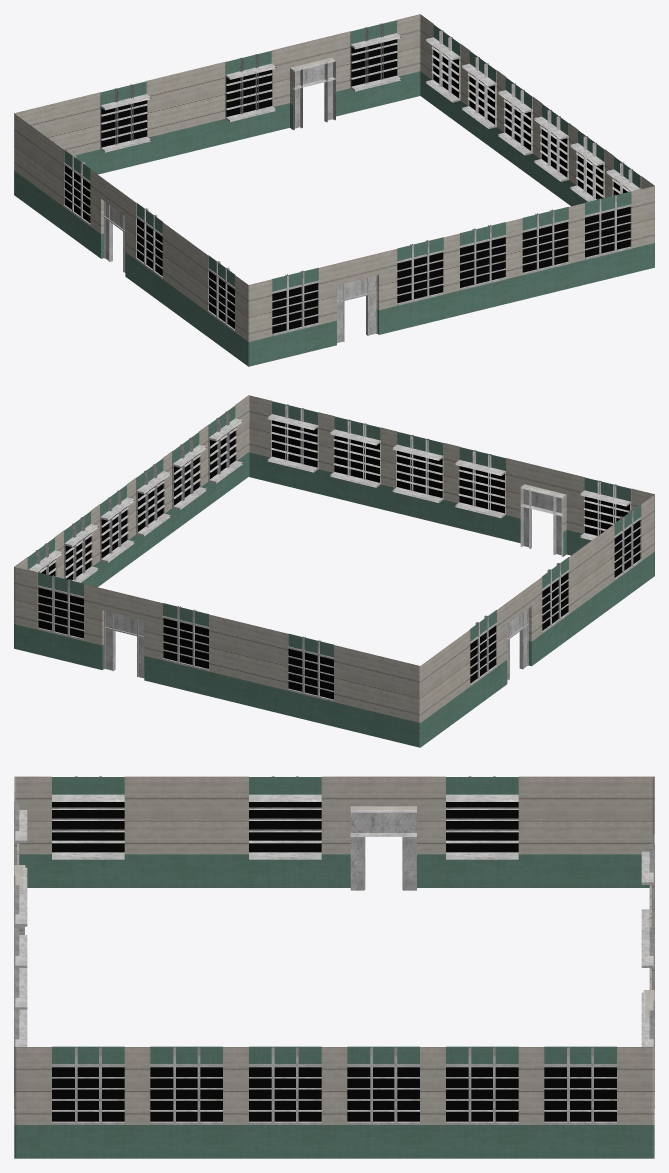
Rendered from BuildingD_Bottom_Shell_VarA.fbx.
3 views of the same model, one above another, from view 1: azimuth 30°, elevation 25°; view 2: azimuth 150°, elevation 25°; view 3: azimuth 270°, elevation 25° (orthographic). The views are drawn at different scales.
Visible parts, largest first — view 1: BuildingD_Bottom_Shell_VarA; view 2: BuildingD_Bottom_Shell_VarA; view 3: BuildingD_Bottom_Shell_VarA.
Boxes of the visible parts, x1,y1,x2,y2 form: BuildingD_Bottom_Shell_VarA: [14, 14, 654, 366]; BuildingD_Bottom_Shell_VarA: [14, 395, 654, 747]; BuildingD_Bottom_Shell_VarA: [14, 776, 654, 1158].
Size of the model in its own units: 2604 by 500 by 2604.
